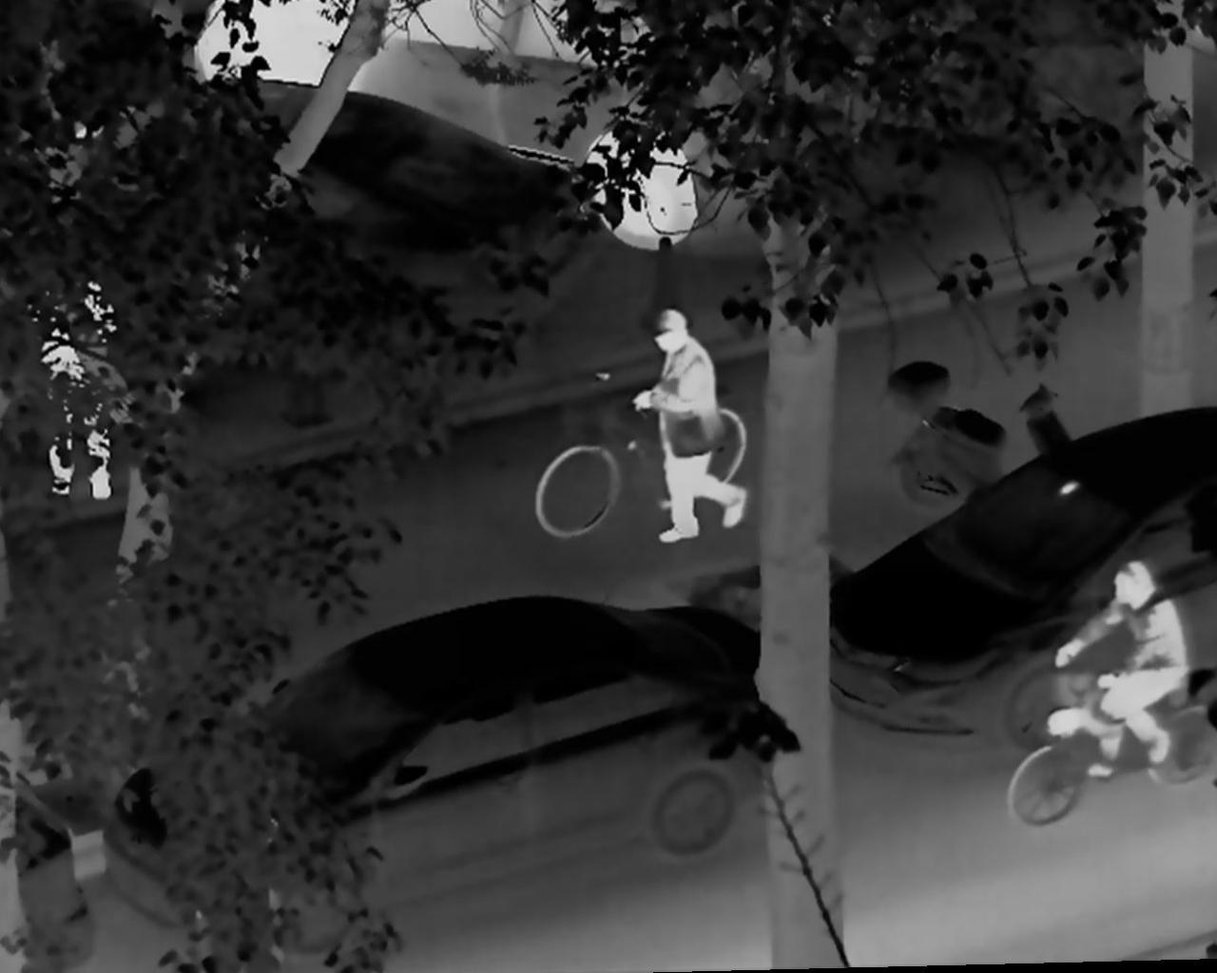person: (1048, 544, 1189, 783), (627, 301, 749, 552), (23, 248, 120, 505)
